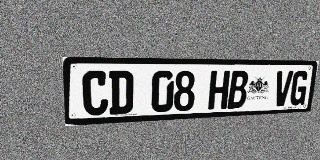0: (151, 71, 174, 112)
8: (173, 71, 196, 111)
B: (227, 71, 249, 109)
C: (82, 71, 108, 116)
D: (109, 71, 133, 115)
G: (289, 71, 309, 106)
H: (208, 71, 230, 110)
V: (272, 71, 293, 106)
